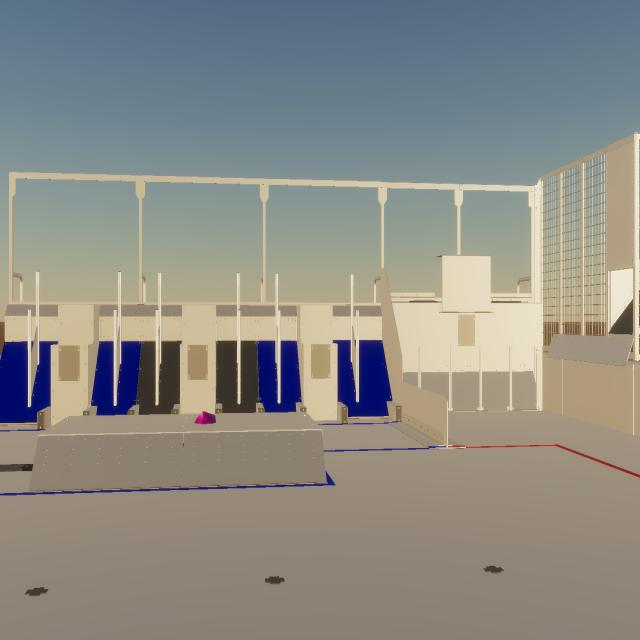frc_cube: (194, 412, 216, 424)
